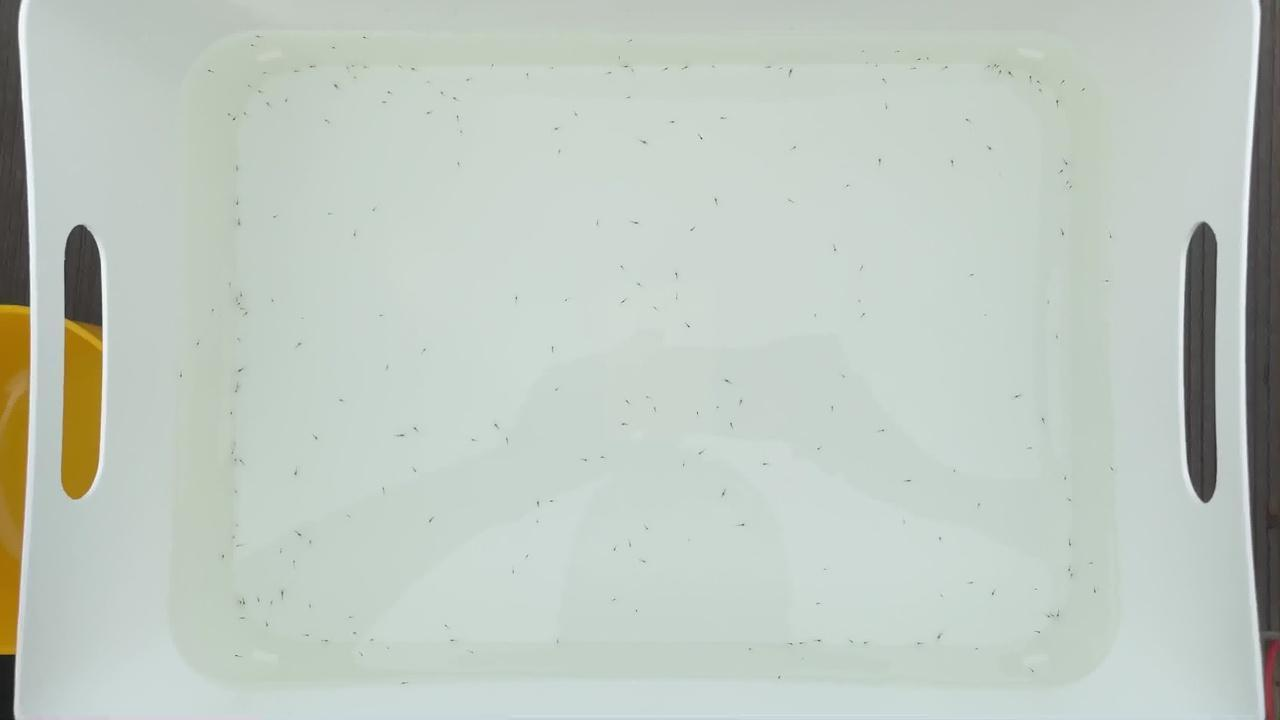shrimp: (221, 295, 234, 303), (278, 589, 291, 597), (254, 90, 267, 98), (372, 162, 385, 170), (359, 35, 372, 43), (423, 80, 436, 88), (436, 90, 449, 98), (452, 157, 465, 165), (569, 107, 582, 115), (624, 69, 637, 77), (691, 135, 704, 143), (667, 118, 680, 126), (638, 135, 651, 143), (859, 46, 872, 54), (880, 102, 893, 110), (1052, 96, 1065, 104), (1057, 79, 1070, 87), (1065, 185, 1078, 193), (1052, 334, 1065, 342), (948, 157, 961, 165), (841, 185, 854, 193), (790, 146, 803, 154), (786, 196, 799, 204), (858, 262, 871, 270), (810, 312, 823, 320), (669, 296, 682, 304), (628, 218, 641, 226), (547, 346, 560, 354), (534, 495, 547, 503), (519, 556, 532, 564), (633, 611, 646, 619), (606, 594, 619, 602), (637, 556, 650, 564), (624, 539, 637, 547), (639, 395, 652, 403), (718, 373, 731, 381), (724, 423, 737, 431), (734, 522, 747, 530), (795, 639, 808, 647), (1089, 584, 1102, 592), (1065, 572, 1078, 580), (1062, 495, 1075, 503), (1023, 445, 1036, 453), (1040, 417, 1053, 425), (1009, 390, 1022, 398), (973, 500, 986, 508), (814, 445, 827, 453), (191, 340, 203, 348), (236, 306, 248, 314), (230, 440, 242, 448), (601, 69, 613, 77), (994, 68, 1006, 76), (1005, 69, 1017, 77), (1061, 157, 1073, 165), (961, 113, 973, 121), (491, 423, 503, 431), (640, 522, 652, 530), (1045, 611, 1057, 619), (173, 370, 186, 377), (207, 304, 220, 311), (238, 286, 251, 293), (230, 297, 243, 304), (232, 303, 245, 310), (238, 309, 251, 316), (268, 297, 281, 304), (294, 341, 307, 348), (232, 337, 245, 344), (234, 364, 247, 371), (232, 381, 245, 388), (227, 409, 240, 416), (226, 448, 239, 455), (239, 458, 252, 465), (231, 520, 244, 527), (227, 532, 240, 539), (234, 544, 247, 551), (216, 555, 229, 562), (232, 599, 245, 606), (239, 602, 252, 609), (232, 652, 245, 659), (262, 621, 275, 628), (266, 602, 279, 609), (250, 599, 263, 606), (306, 603, 319, 610), (298, 631, 311, 638), (317, 636, 330, 643), (356, 652, 369, 659), (384, 644, 397, 651), (365, 637, 378, 644), (348, 629, 361, 636), (345, 615, 358, 622), (445, 635, 458, 642), (437, 618, 450, 625), (286, 560, 299, 567), (306, 539, 319, 546), (295, 530, 308, 537), (292, 468, 305, 475), (310, 433, 323, 440), (342, 515, 355, 522), (424, 517, 437, 524), (409, 466, 422, 473), (378, 486, 391, 493), (394, 432, 407, 439), (383, 363, 396, 370), (376, 313, 389, 320), (348, 229, 361, 236), (327, 211, 340, 218), (367, 206, 380, 213), (268, 216, 281, 223), (231, 218, 244, 225), (230, 199, 243, 206), (231, 164, 244, 171), (222, 108, 235, 115), (238, 109, 251, 116), (203, 64, 216, 71), (247, 39, 260, 46), (260, 101, 273, 108), (256, 70, 269, 77), (279, 94, 292, 101), (320, 117, 333, 124), (328, 82, 341, 89), (360, 61, 373, 68), (303, 63, 316, 70), (286, 67, 299, 74), (326, 44, 339, 51), (383, 85, 396, 92), (389, 63, 402, 70), (402, 61, 415, 68), (424, 109, 437, 116), (450, 93, 463, 100), (461, 75, 474, 82), (453, 112, 466, 119), (457, 129, 470, 136), (485, 66, 498, 73), (502, 50, 515, 57), (521, 74, 534, 81), (550, 123, 563, 130), (554, 150, 567, 157), (660, 67, 673, 74), (678, 64, 691, 71), (705, 63, 718, 70), (713, 198, 726, 205), (762, 63, 775, 70), (774, 63, 787, 70), (784, 66, 797, 73), (862, 62, 875, 69), (870, 61, 883, 68), (879, 76, 892, 83), (888, 47, 901, 54), (906, 66, 919, 73), (914, 53, 927, 60), (924, 55, 937, 62), (939, 62, 952, 69), (982, 64, 995, 71), (985, 62, 998, 69), (1023, 74, 1036, 81), (1033, 75, 1046, 82), (1038, 87, 1051, 94), (1075, 85, 1088, 92), (1105, 232, 1118, 239), (1100, 276, 1113, 283), (1042, 300, 1055, 307), (984, 146, 997, 153), (875, 155, 888, 162), (853, 300, 866, 307), (858, 312, 871, 319), (683, 324, 696, 331), (648, 304, 661, 311), (617, 299, 630, 306), (669, 272, 682, 279), (688, 225, 701, 232), (595, 218, 608, 225), (617, 266, 630, 273), (635, 284, 648, 291), (564, 298, 577, 305), (510, 294, 523, 301), (553, 388, 566, 395), (543, 498, 556, 505), (532, 518, 545, 525), (553, 638, 566, 645), (609, 545, 622, 552), (595, 457, 608, 464), (619, 424, 632, 431), (622, 398, 635, 405), (691, 412, 704, 419), (710, 403, 723, 410), (733, 397, 746, 404), (696, 447, 709, 454), (677, 455, 690, 462), (718, 488, 731, 495), (757, 460, 770, 467), (741, 646, 754, 653), (773, 673, 786, 680), (783, 637, 796, 644), (812, 636, 825, 643), (814, 600, 827, 607), (818, 565, 831, 572), (845, 638, 858, 645), (858, 638, 871, 645), (977, 646, 990, 653), (1027, 668, 1040, 675), (1030, 629, 1043, 636), (1043, 612, 1056, 619), (1062, 567, 1075, 574), (1086, 560, 1099, 567), (1062, 539, 1075, 546), (1056, 473, 1069, 480), (1106, 466, 1119, 473), (1032, 583, 1045, 590), (985, 587, 998, 594), (965, 578, 978, 585), (898, 519, 911, 526), (898, 477, 911, 484), (874, 425, 887, 432), (827, 405, 840, 412), (837, 375, 850, 382), (225, 276, 237, 283), (297, 319, 309, 326), (230, 385, 242, 392), (230, 457, 242, 464), (230, 486, 242, 493), (236, 614, 248, 621), (397, 679, 409, 686), (468, 648, 480, 655), (275, 547, 287, 554), (408, 424, 420, 431), (335, 396, 347, 403), (418, 348, 430, 355), (230, 114, 242, 121), (253, 34, 265, 41), (241, 82, 253, 89), (347, 76, 359, 83), (347, 60, 359, 67), (341, 63, 353, 70), (380, 102, 392, 109), (623, 94, 635, 101), (618, 60, 630, 67), (613, 53, 625, 60), (623, 39, 635, 46), (717, 114, 729, 121), (989, 61, 1001, 68), (1055, 164, 1067, 171), (1061, 175, 1073, 182), (1056, 231, 1068, 238), (967, 272, 979, 279), (829, 244, 841, 251), (501, 434, 513, 441), (468, 435, 480, 442), (507, 570, 519, 577), (579, 458, 591, 465), (651, 403, 663, 410), (911, 640, 923, 647), (933, 631, 945, 638), (1050, 609, 1062, 616), (934, 589, 946, 596), (934, 535, 946, 542), (950, 467, 962, 474)
